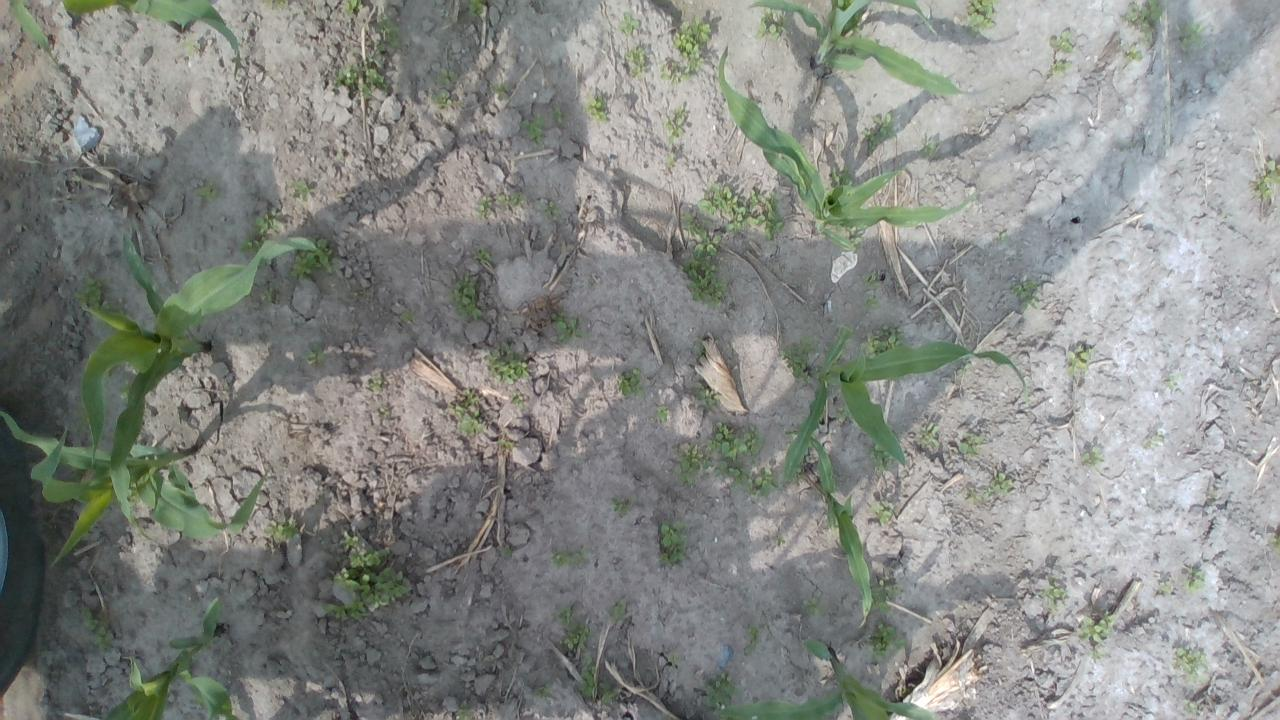Maize: (71, 224, 329, 536), (714, 41, 979, 253), (0, 406, 266, 568), (778, 323, 1030, 484), (747, 0, 995, 100), (707, 634, 943, 720), (9, 0, 241, 83), (782, 422, 874, 628), (98, 596, 230, 720)
Weeds: (324, 528, 411, 622), (679, 212, 730, 310), (704, 421, 767, 464), (239, 206, 283, 266), (698, 182, 748, 234), (672, 16, 712, 74), (290, 237, 341, 281), (332, 60, 388, 99), (482, 342, 530, 386), (778, 333, 820, 383), (748, 189, 786, 241), (553, 604, 594, 652), (1077, 610, 1116, 660), (673, 442, 714, 488), (446, 388, 484, 437), (866, 618, 906, 664), (78, 606, 116, 652), (446, 271, 482, 319), (1124, 0, 1164, 43), (870, 568, 906, 614), (697, 672, 740, 710), (1172, 646, 1212, 684), (864, 323, 904, 360), (74, 274, 114, 308), (549, 311, 588, 345), (373, 10, 403, 54), (660, 522, 689, 566), (964, 0, 998, 36), (862, 114, 894, 152), (1251, 158, 1280, 198), (755, 6, 789, 40), (260, 517, 304, 543), (744, 468, 779, 500), (712, 458, 750, 487), (1040, 573, 1068, 612), (616, 364, 646, 400), (1011, 280, 1041, 313), (660, 105, 686, 142), (578, 655, 598, 700), (691, 380, 720, 411), (550, 545, 589, 568), (656, 60, 690, 86), (1178, 21, 1207, 51), (582, 90, 610, 121), (982, 473, 1013, 501), (624, 45, 650, 78), (870, 442, 896, 475), (1066, 344, 1092, 376), (520, 113, 544, 146), (866, 500, 896, 525), (1048, 26, 1074, 54), (836, 224, 866, 248), (1181, 564, 1205, 594), (742, 625, 764, 657), (957, 432, 983, 458), (916, 421, 940, 448), (72, 402, 91, 432), (616, 10, 639, 34), (124, 480, 143, 509), (430, 90, 457, 110), (830, 164, 854, 186), (452, 698, 476, 720), (598, 681, 622, 703), (474, 195, 494, 221), (608, 596, 628, 622), (195, 182, 222, 201), (289, 178, 312, 200), (611, 497, 635, 518), (802, 597, 828, 616), (497, 191, 526, 208), (918, 140, 942, 160), (301, 342, 325, 362), (843, 9, 862, 34), (434, 68, 460, 86), (1080, 446, 1102, 467), (538, 200, 562, 219), (1180, 698, 1202, 718), (488, 82, 512, 100), (116, 379, 133, 404), (861, 272, 884, 290), (264, 282, 284, 302), (366, 374, 386, 394), (1046, 60, 1071, 76), (472, 248, 496, 264), (1143, 433, 1165, 450), (343, 0, 363, 17), (1163, 371, 1180, 390), (962, 487, 982, 503), (182, 34, 196, 56), (653, 406, 671, 423), (860, 294, 879, 310), (1124, 46, 1143, 62), (533, 683, 552, 699), (510, 391, 526, 408), (260, 0, 290, 9), (466, 0, 485, 14), (830, 0, 854, 11), (692, 336, 706, 354), (502, 543, 515, 562), (1268, 534, 1280, 554), (399, 308, 416, 322), (550, 106, 564, 123), (792, 466, 806, 483), (1156, 580, 1172, 594), (834, 405, 849, 419), (773, 532, 788, 546), (956, 362, 972, 375), (664, 154, 676, 168), (668, 651, 679, 666), (378, 406, 390, 418), (498, 439, 514, 448), (998, 232, 1008, 244)
